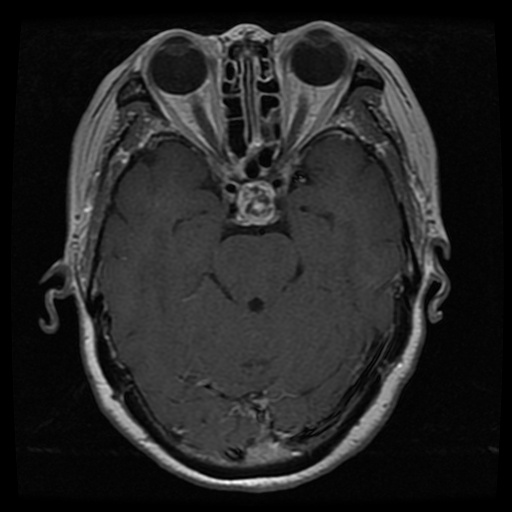pituitary: (237, 178, 277, 225)
